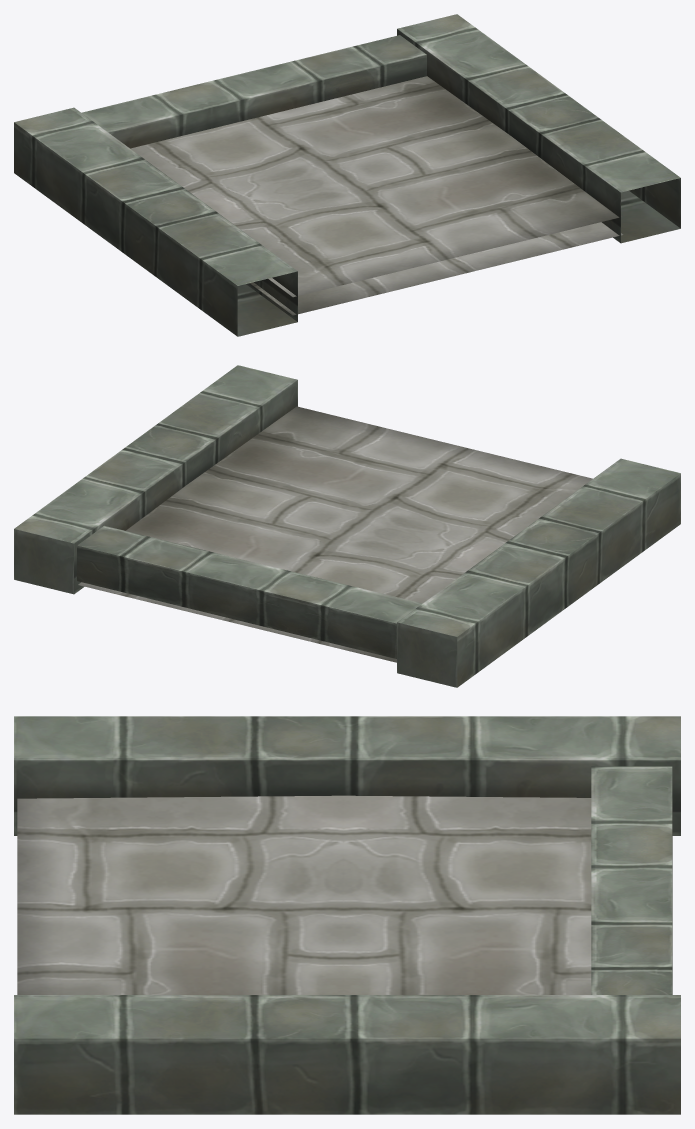
Rendered from bridge_04_tile_04.fbx.
3 views of the same model, one above another, from view 1: azimuth 30°, elevation 25°; view 2: azimuth 150°, elevation 25°; view 3: azimuth 270°, elevation 25° (orthographic). The views are drawn at different scales.
Parts seen in each view (by area): view 1: bridge_04_tile_04; view 2: bridge_04_tile_04; view 3: bridge_04_tile_04.
Boxes of the visible parts, left/top/right/bottom form: bridge_04_tile_04: left=14, top=14, right=680, bottom=336; bridge_04_tile_04: left=14, top=365, right=680, bottom=687; bridge_04_tile_04: left=14, top=716, right=680, bottom=1114.
Bounding box in the file's own units: 2.76 × 0.3024 × 2.41.
